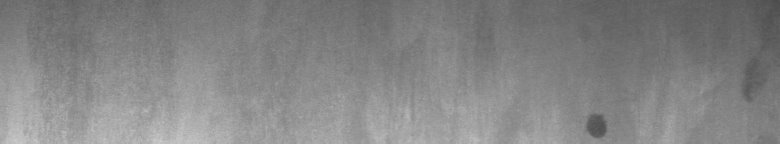fi: (582, 108, 612, 136)
